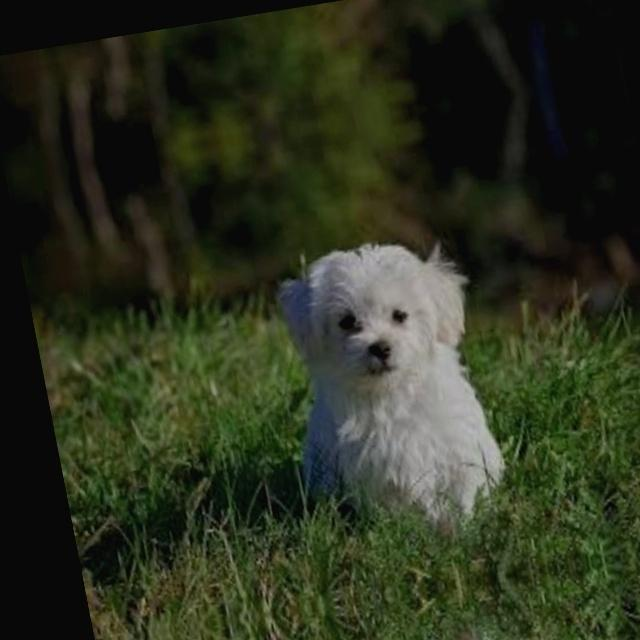dog: (238, 218, 518, 566), (194, 0, 415, 29), (316, 615, 550, 640)
